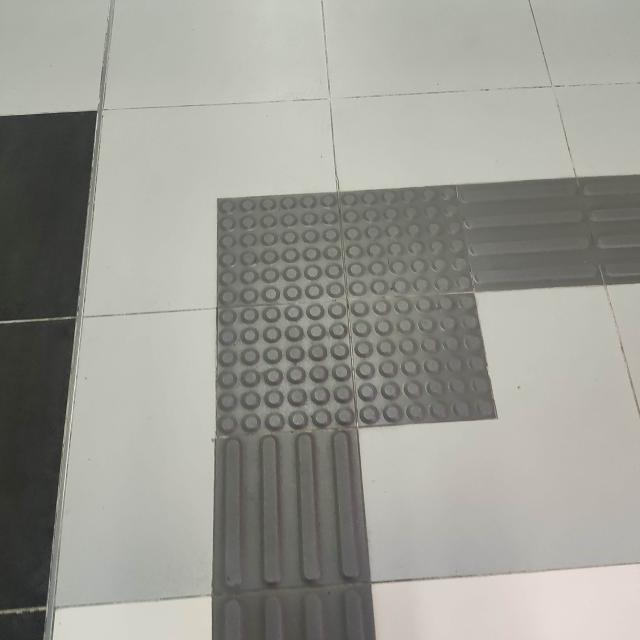kanan: (164, 135, 640, 491)
